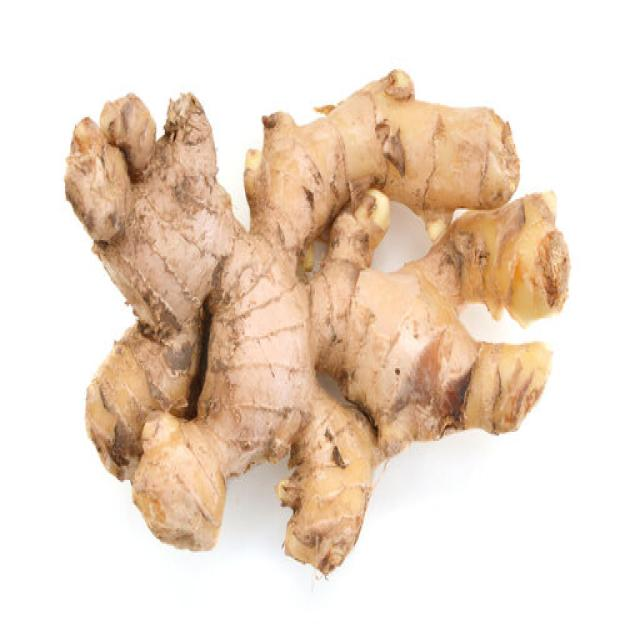Ginger: (66, 55, 574, 565)
